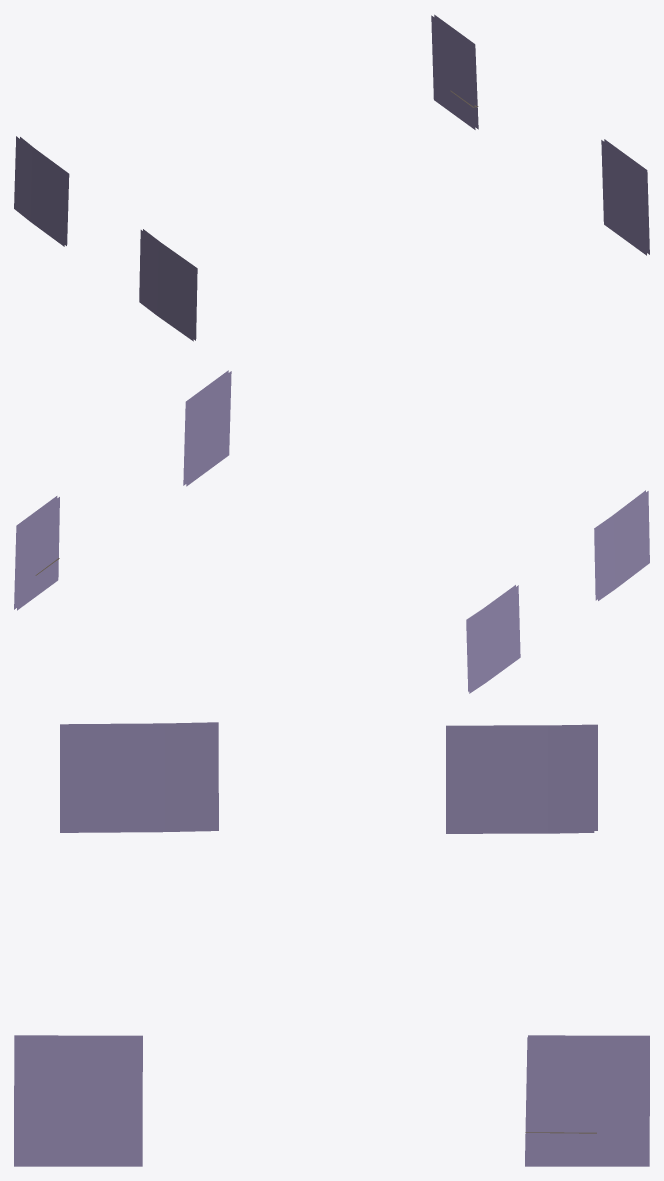
The model's file is HouseVar2(Window).fbx.
3 renders of one model, top to bottom at view 1: azimuth 30°, elevation 25°; view 2: azimuth 150°, elevation 25°; view 3: azimuth 270°, elevation 25°, orthographic. The views are drawn at different scales.
Parts seen in each view (by area): view 1: Cylinder.000; view 2: Cylinder.000; view 3: Cylinder.000.
Part boxes in pixels (x1,y1,x2,y2): Cylinder.000: (14, 14, 649, 341); Cylinder.000: (14, 370, 649, 693); Cylinder.000: (14, 722, 649, 1166).
Size of the model in its own units: 1173 by 217 by 979.
